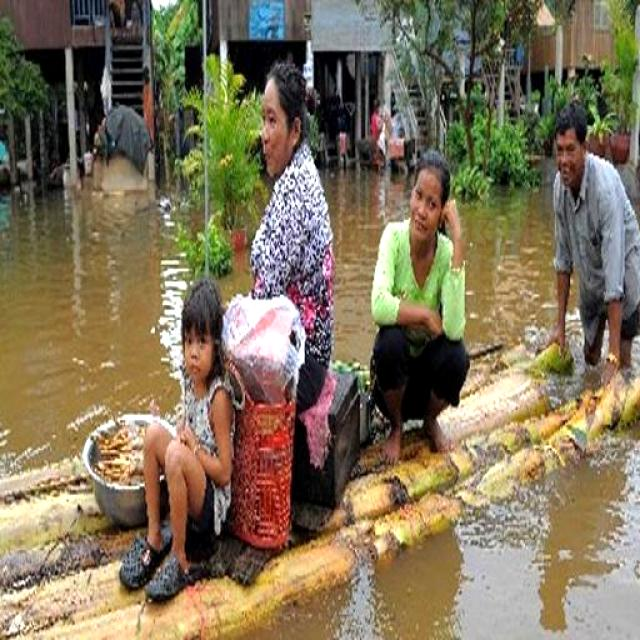civilian: (232, 59, 365, 410), (112, 273, 238, 613), (373, 151, 485, 467), (537, 96, 640, 390)
